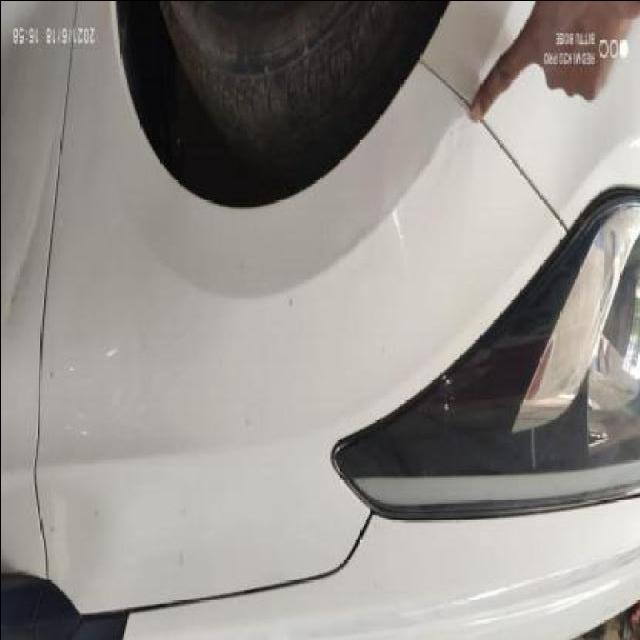fender-dent: (72, 39, 502, 383)
